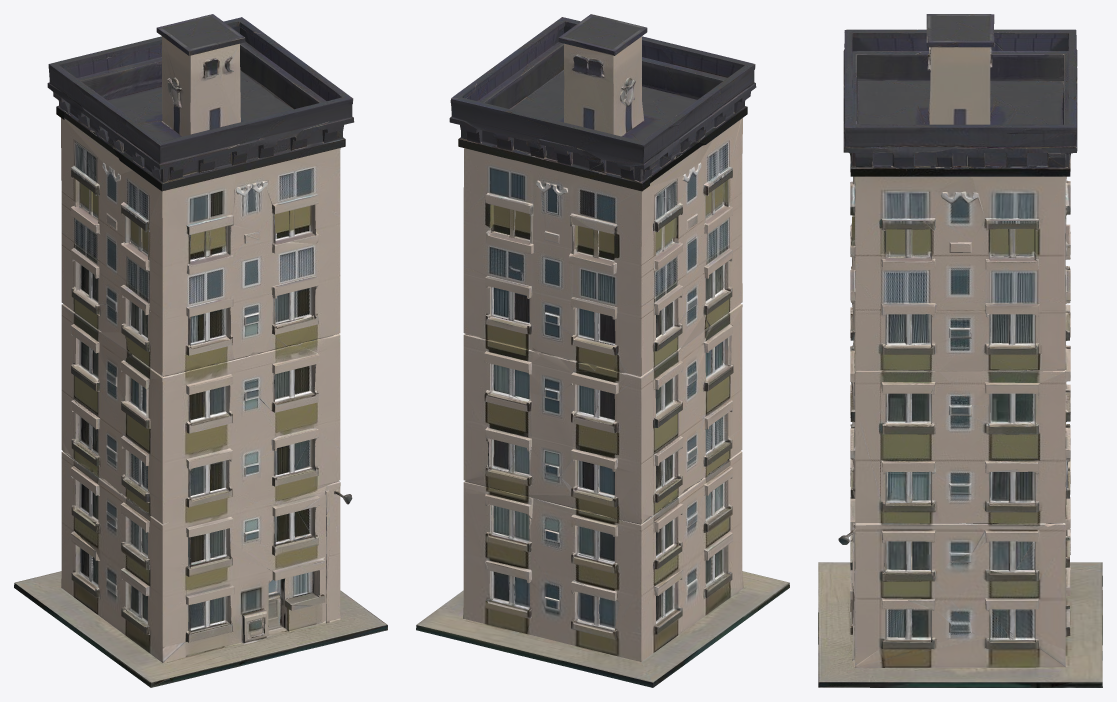
The model's file is arch_apartment_02.glb.
3 renders of one model, left to right at view 1: azimuth 30°, elevation 25°; view 2: azimuth 150°, elevation 25°; view 3: azimuth 270°, elevation 25°, orthographic. The views are drawn at different scales.
Bounding box in the file's own units: 9.46 × 22 × 9.47.
1 material, 1 textured.
